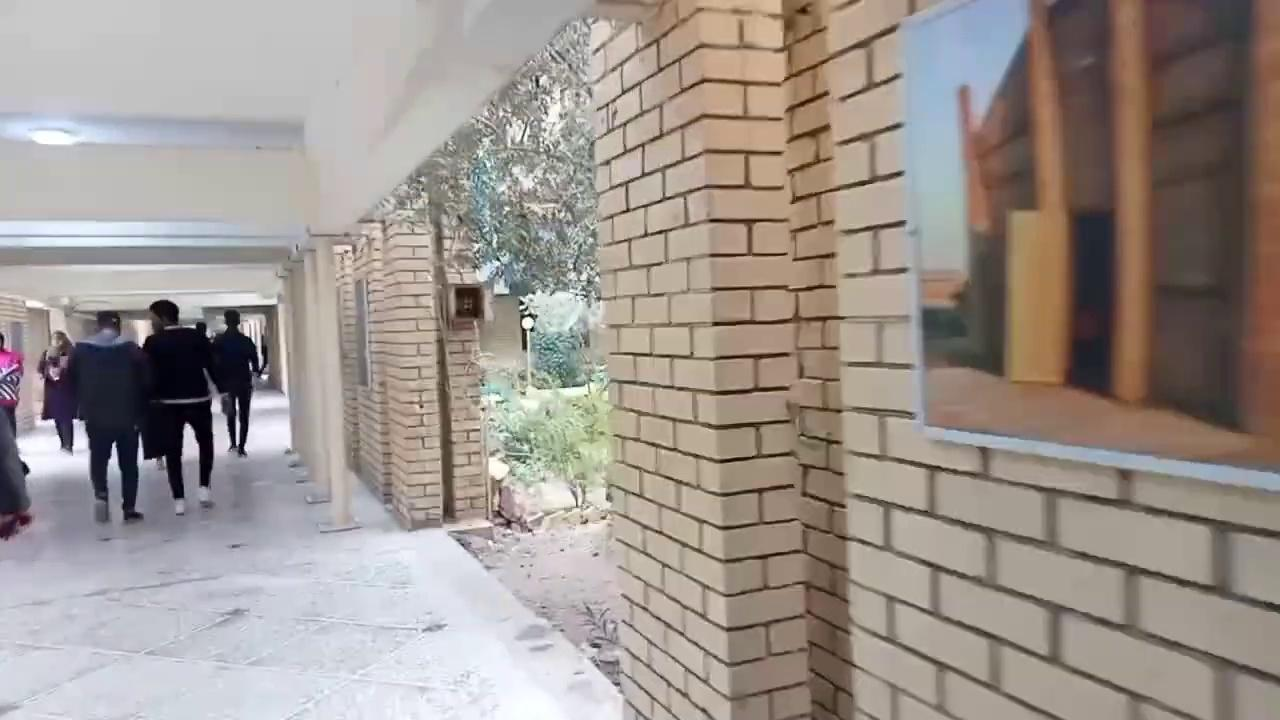person: (66, 309, 153, 521), (141, 299, 222, 515), (212, 309, 261, 457), (37, 330, 78, 454), (140, 315, 167, 470), (0, 406, 31, 539), (0, 331, 24, 439), (259, 332, 268, 373)
tree: (361, 15, 611, 519), (461, 17, 604, 388), (476, 286, 613, 528)
